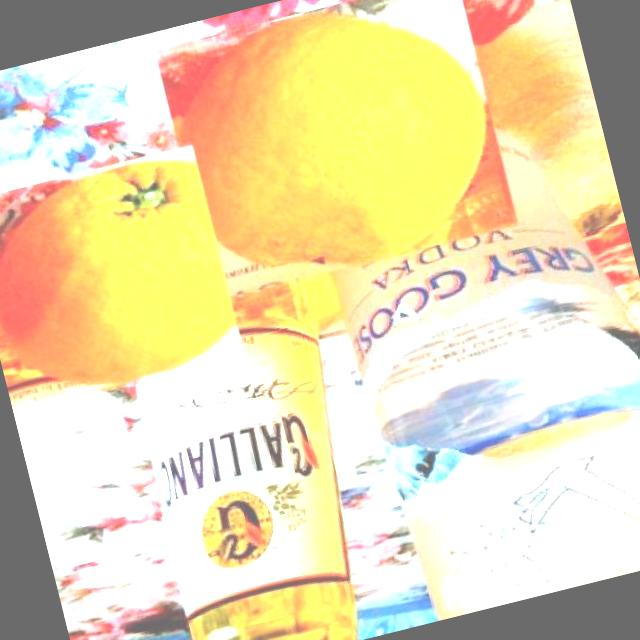Orange: (153, 0, 517, 300), (0, 145, 244, 410)
